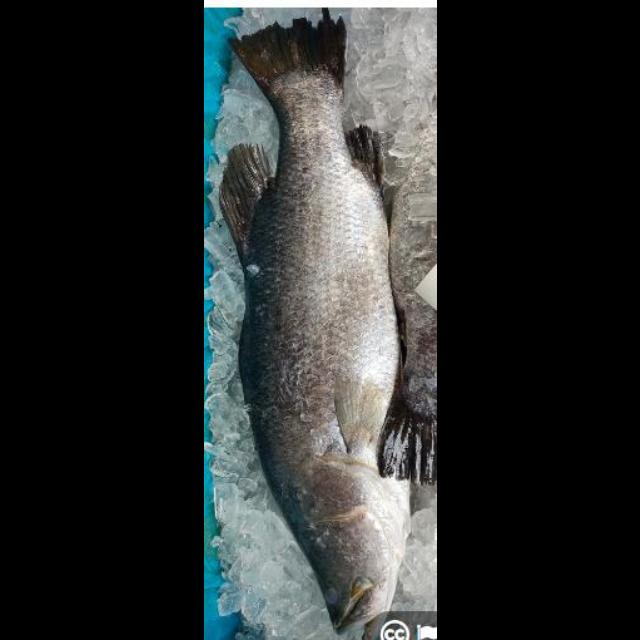Seabass: (218, 9, 406, 635)
